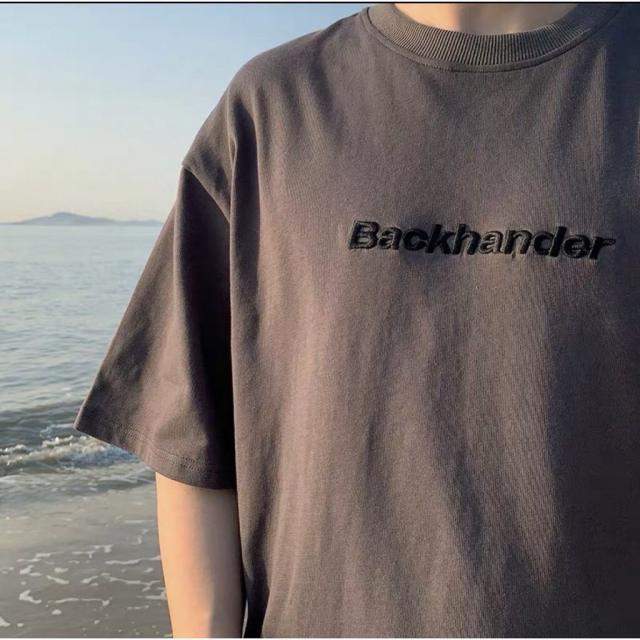Shirt: (70, 3, 640, 638)
